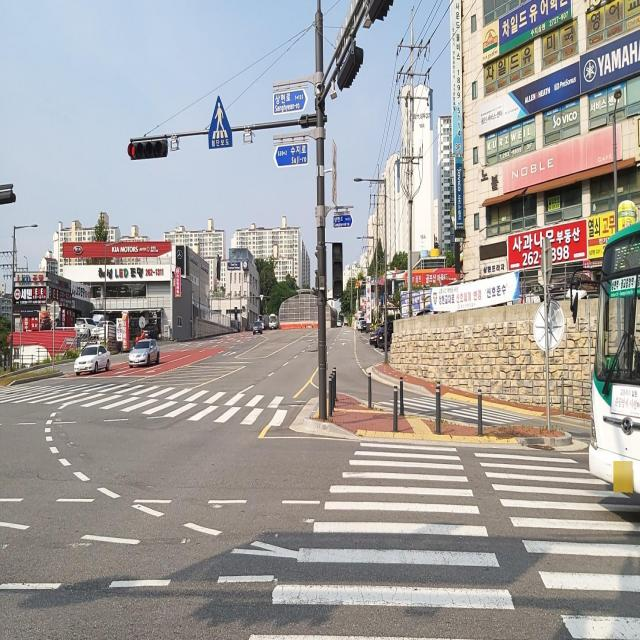횡단보도: (245, 436, 640, 640), (0, 372, 318, 429), (382, 382, 536, 427)
